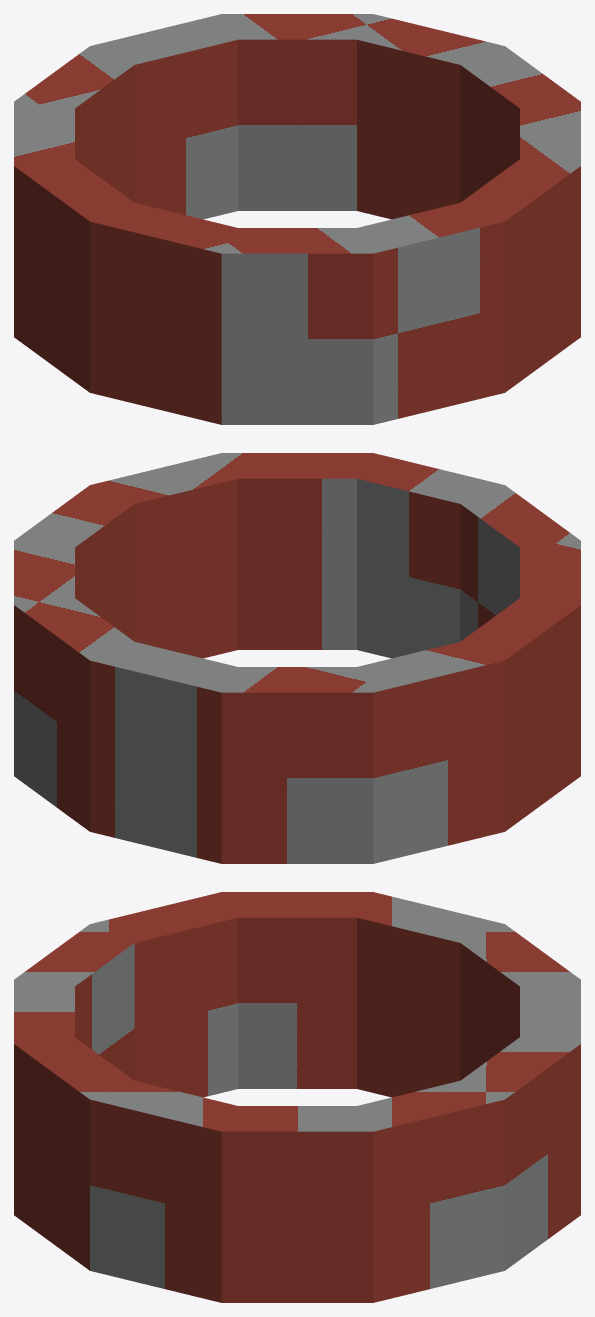
File: Schraubenmutter.fbx
The picture shows the model from 3 angles, top to bottom: view 1: azimuth 30°, elevation 25°; view 2: azimuth 150°, elevation 25°; view 3: azimuth 270°, elevation 25°; orthographic projection.
Parts seen in each view (by area): view 1: tube; view 2: tube; view 3: tube.
Part boxes in pixels (<box>): tube: <box>14,14,580,424</box>; tube: <box>14,453,580,863</box>; tube: <box>14,892,580,1302</box>.
Size of the model in its own units: 37.5 by 12.5 by 37.5.
Materials: 1 (1 with a texture image).
